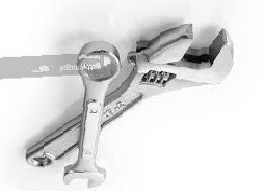Wrench: (24, 18, 251, 191)
